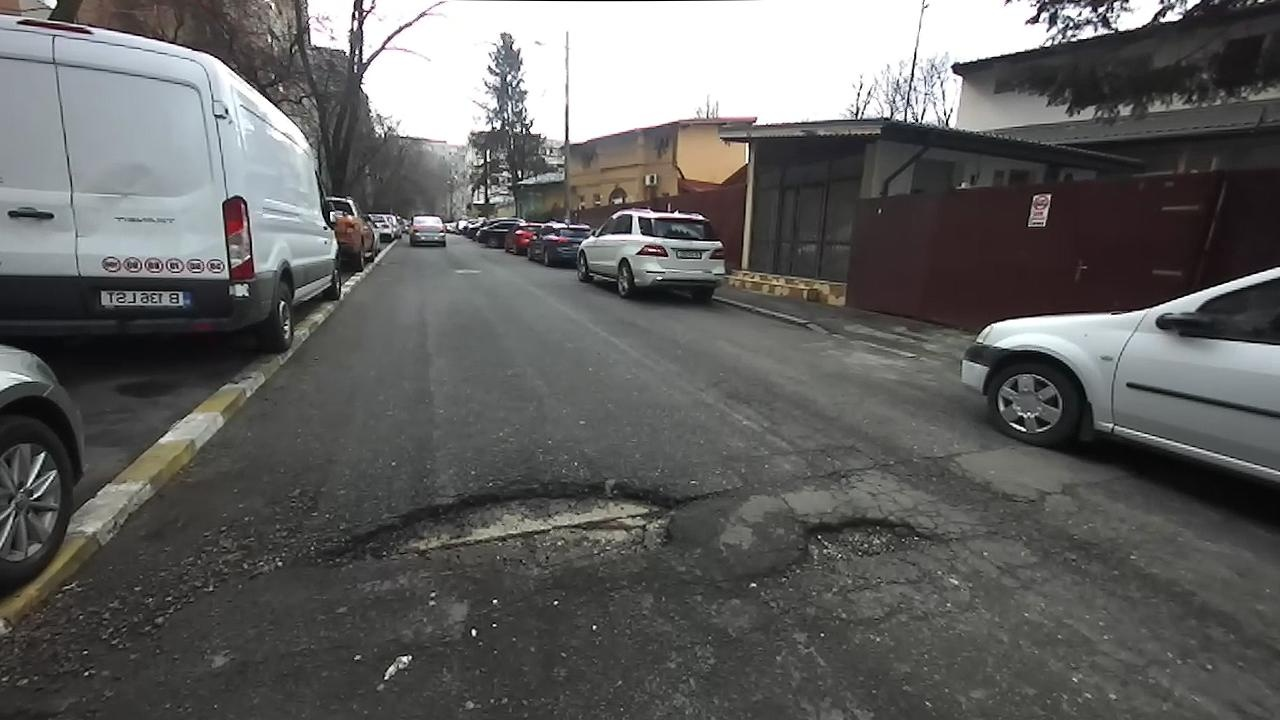pothole: (298, 470, 696, 593), (756, 510, 941, 584)
